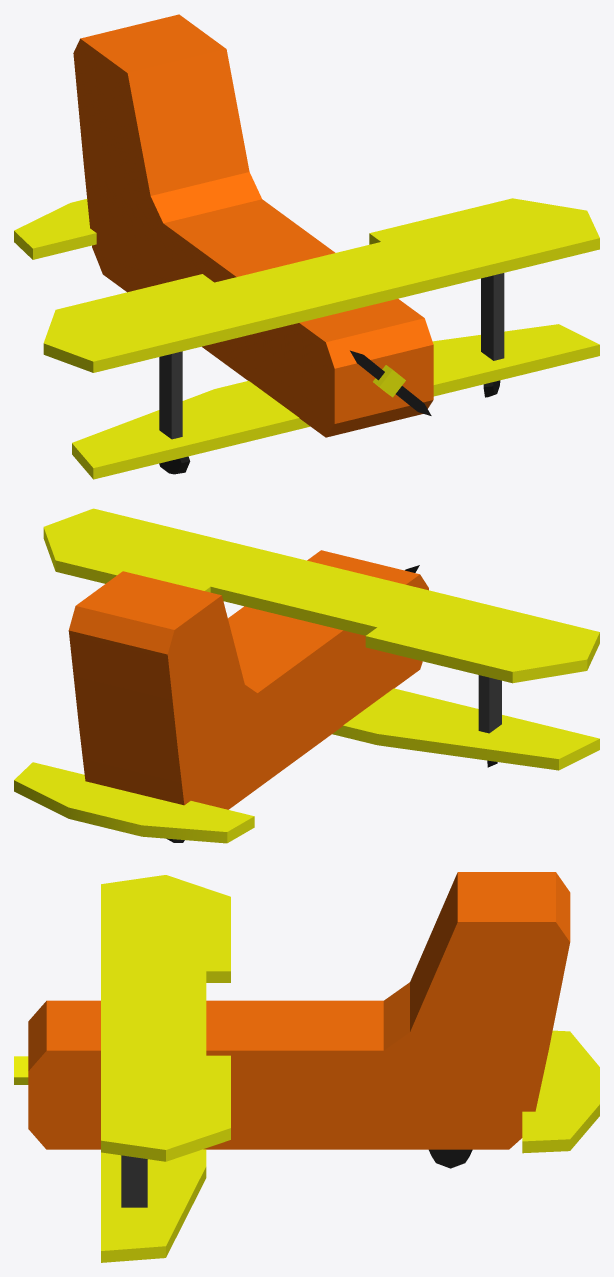
File: Airplane_C.FBX
The picture shows the model from 3 angles, top to bottom: view 1: azimuth 30°, elevation 25°; view 2: azimuth 150°, elevation 25°; view 3: azimuth 270°, elevation 25°; orthographic projection. The views are drawn at different scales.
Visible parts, largest first — view 1: Airplane; view 2: Airplane; view 3: Airplane.
Part boxes in pixels (x1,y1,x2,y2): Airplane: [14, 14, 599, 479]; Airplane: [14, 508, 599, 843]; Airplane: [14, 872, 599, 1262].
Bounding box in the file's own units: 150 × 68.74 × 135.
